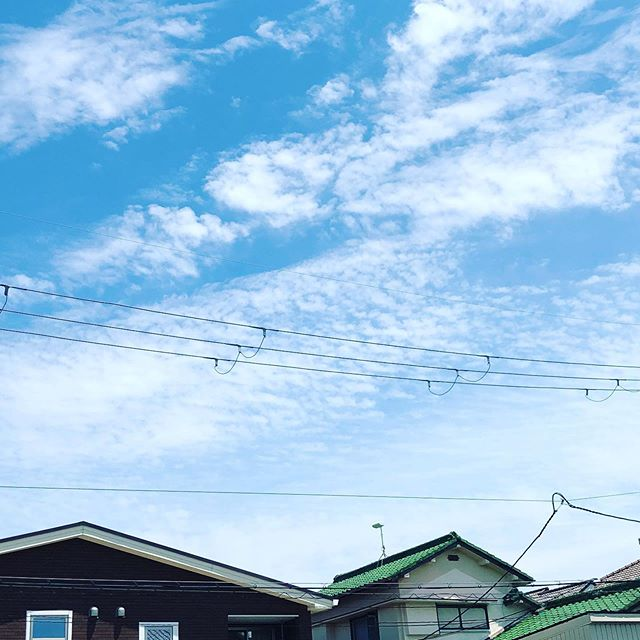building: (1, 518, 321, 640), (317, 534, 547, 640)
sky: (6, 1, 640, 505)
